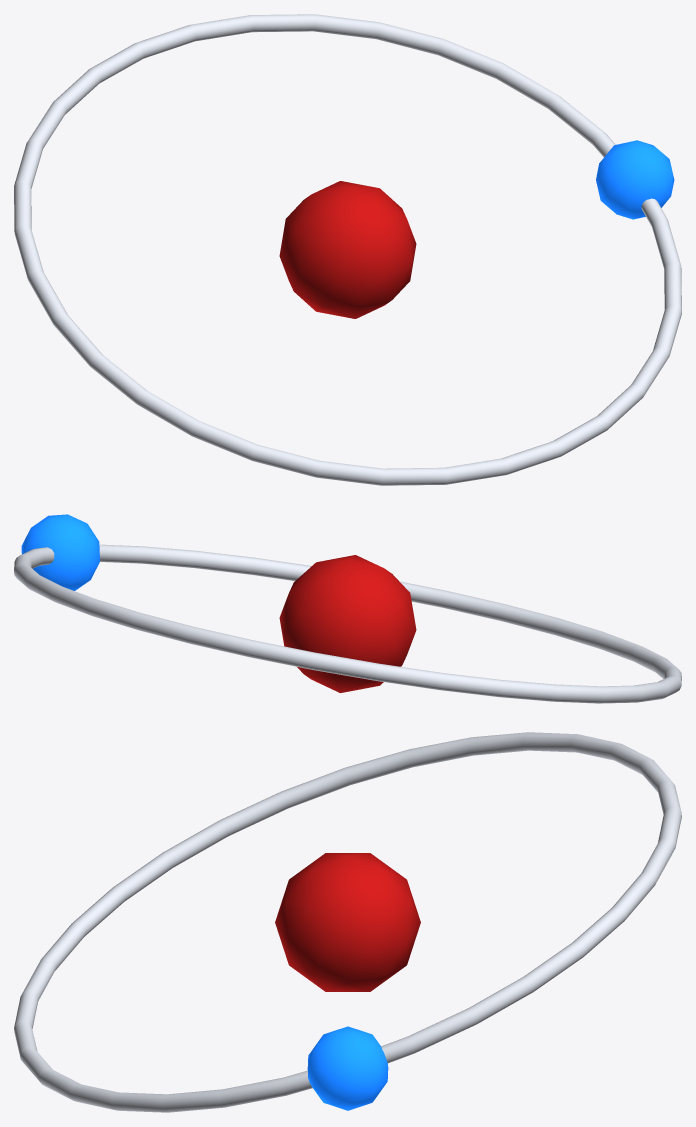
File: Atom_H.fbx
3 renders of one model, top to bottom at view 1: azimuth 30°, elevation 25°; view 2: azimuth 150°, elevation 25°; view 3: azimuth 270°, elevation 25°, orthographic. The views are drawn at different scales.
Parts seen in each view (by area): view 1: H_Orbit_1, H_Inti_Atom; view 2: H_Orbit_1, H_Inti_Atom; view 3: H_Orbit_1, H_Inti_Atom.
Part boxes in pixels (bbox=[...]): H_Orbit_1: bbox=[14, 14, 681, 485]; H_Inti_Atom: bbox=[279, 181, 416, 318]; H_Orbit_1: bbox=[14, 514, 681, 703]; H_Inti_Atom: bbox=[279, 555, 416, 692]; H_Orbit_1: bbox=[14, 732, 681, 1112]; H_Inti_Atom: bbox=[275, 853, 420, 991].
Size of the model in its own units: 0.9643 by 0.3315 by 0.8694.
